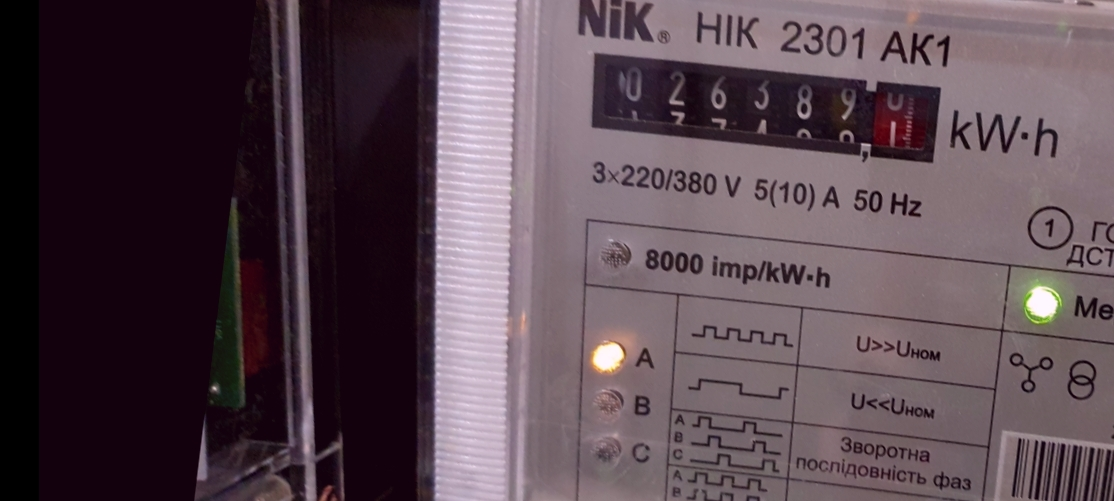0: (623, 62, 650, 104), (887, 89, 908, 112)
1: (887, 116, 903, 149)
2: (666, 67, 695, 108)
3: (754, 76, 775, 113)
6: (710, 71, 733, 112)
8: (795, 81, 820, 121)
9: (839, 85, 861, 121)
screen: (573, 31, 962, 182)
